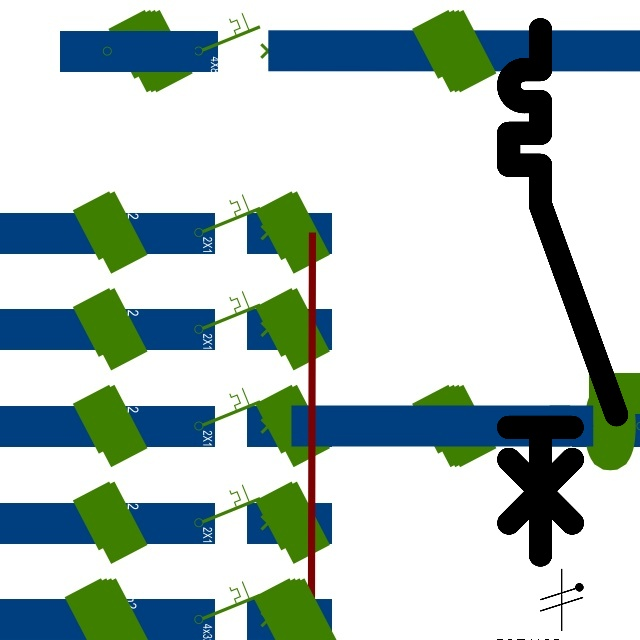interruptor_termomagnetico: (495, 16, 630, 568)
